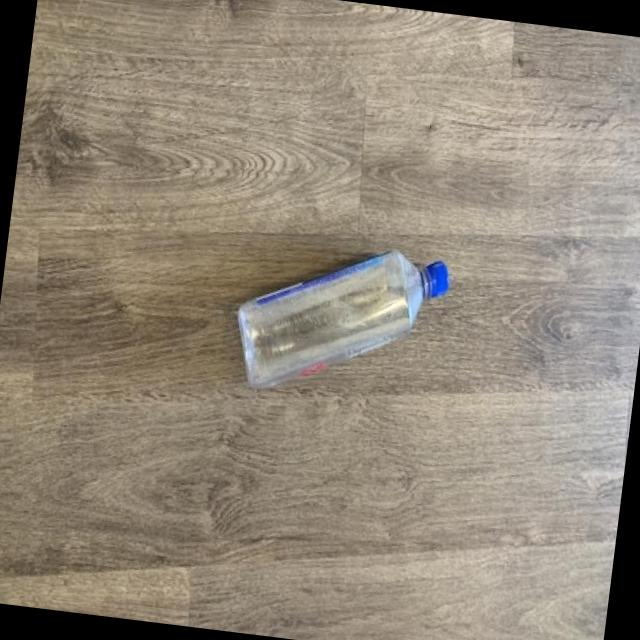plastic_bottle: (228, 232, 452, 412)
